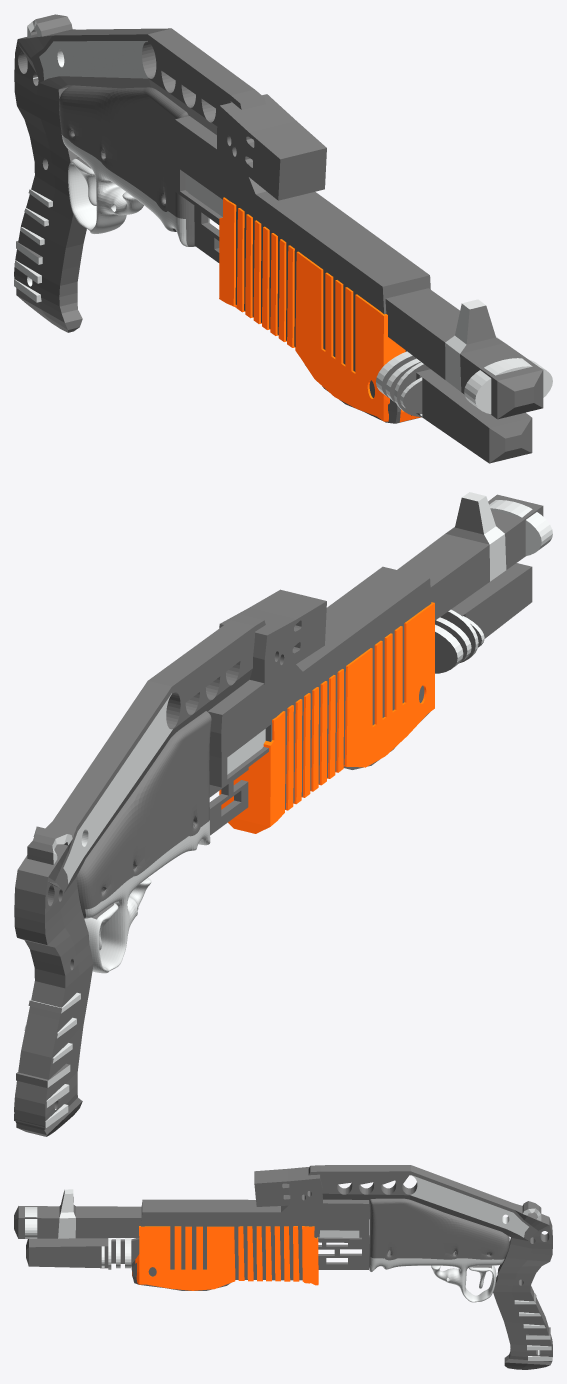
Rendered from SPAS12.fbx.
3 views of the same model, one above another, from view 1: azimuth 30°, elevation 25°; view 2: azimuth 150°, elevation 25°; view 3: azimuth 270°, elevation 25° (orthographic). The views are drawn at different scales.
Parts seen in each view (by area): view 1: Hand, Reload, ReloadMove, Middle, Górna_Lufa, Dolna Lufa, Góra; view 2: Hand, ReloadMove, Reload, Middle, Górna_Lufa, Dolna Lufa, Góra; view 3: Hand, Reload, Middle, ReloadMove, Dolna Lufa, Górna_Lufa, Góra.
Boxes of the visible parts, x1,y1,x2,y2 form: Hand: (14, 14, 265, 332); Reload: (174, 116, 430, 423); ReloadMove: (219, 197, 420, 422); Middle: (59, 85, 209, 246); Górna_Lufa: (385, 288, 552, 419); Dolna Lufa: (194, 205, 532, 463); Góra: (217, 94, 326, 200); Hand: (14, 614, 265, 1136); ReloadMove: (219, 602, 434, 833); Reload: (207, 566, 431, 809); Middle: (76, 711, 211, 973); Górna_Lufa: (397, 492, 552, 620); Dolna Lufa: (209, 563, 532, 835); Góra: (219, 589, 326, 684); Hand: (308, 1165, 552, 1369); Reload: (132, 1199, 369, 1290); Middle: (369, 1198, 509, 1302); ReloadMove: (132, 1226, 318, 1290); Dolna Lufa: (26, 1235, 369, 1269); Górna_Lufa: (14, 1189, 141, 1238); Góra: (254, 1166, 322, 1206).
Size of the model in its own units: 30.13 by 130 by 316.
